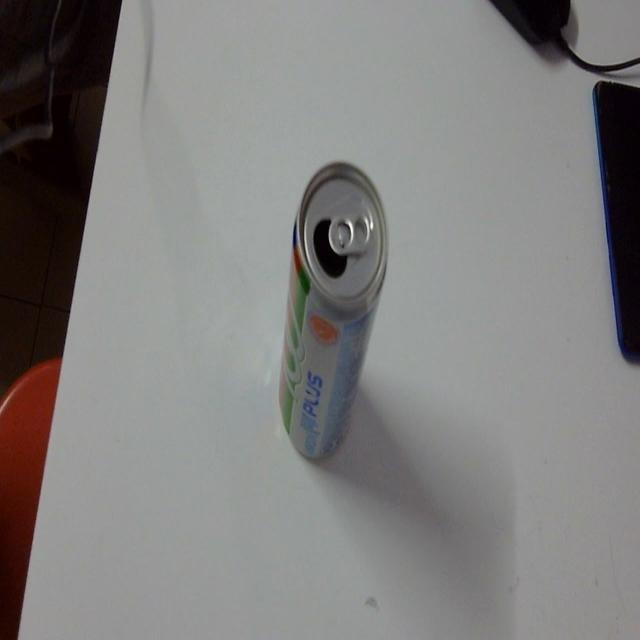metal_standrotation: (274, 128, 389, 472)
